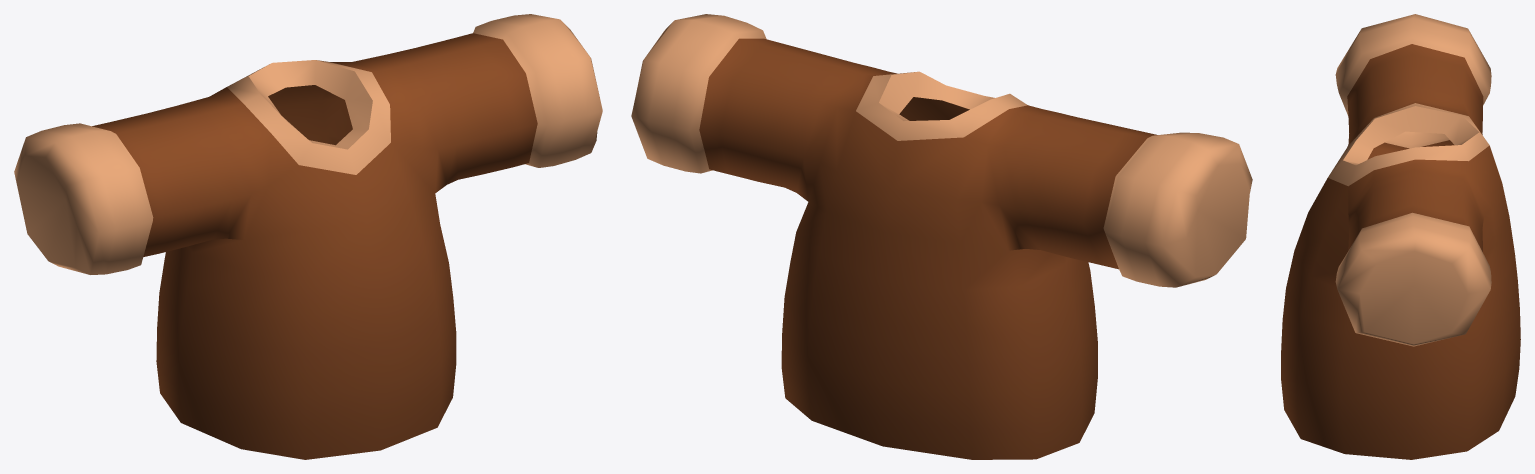
Rendered from Top_14.fbx.
3 views of the same model, side by side, from view 1: azimuth 30°, elevation 25°; view 2: azimuth 150°, elevation 25°; view 3: azimuth 270°, elevation 25° (orthographic). The views are drawn at different scales.
Parts seen in each view (by area): view 1: Top_14; view 2: Top_14; view 3: Top_14.
Boxes of the visible parts, left/top/right/bottom form: Top_14: left=14, top=14, right=602, bottom=459; Top_14: left=631, top=14, right=1252, bottom=459; Top_14: left=1281, top=14, right=1520, bottom=459.
Bounding box in the file's own units: 83.07 × 48.32 × 36.49.
